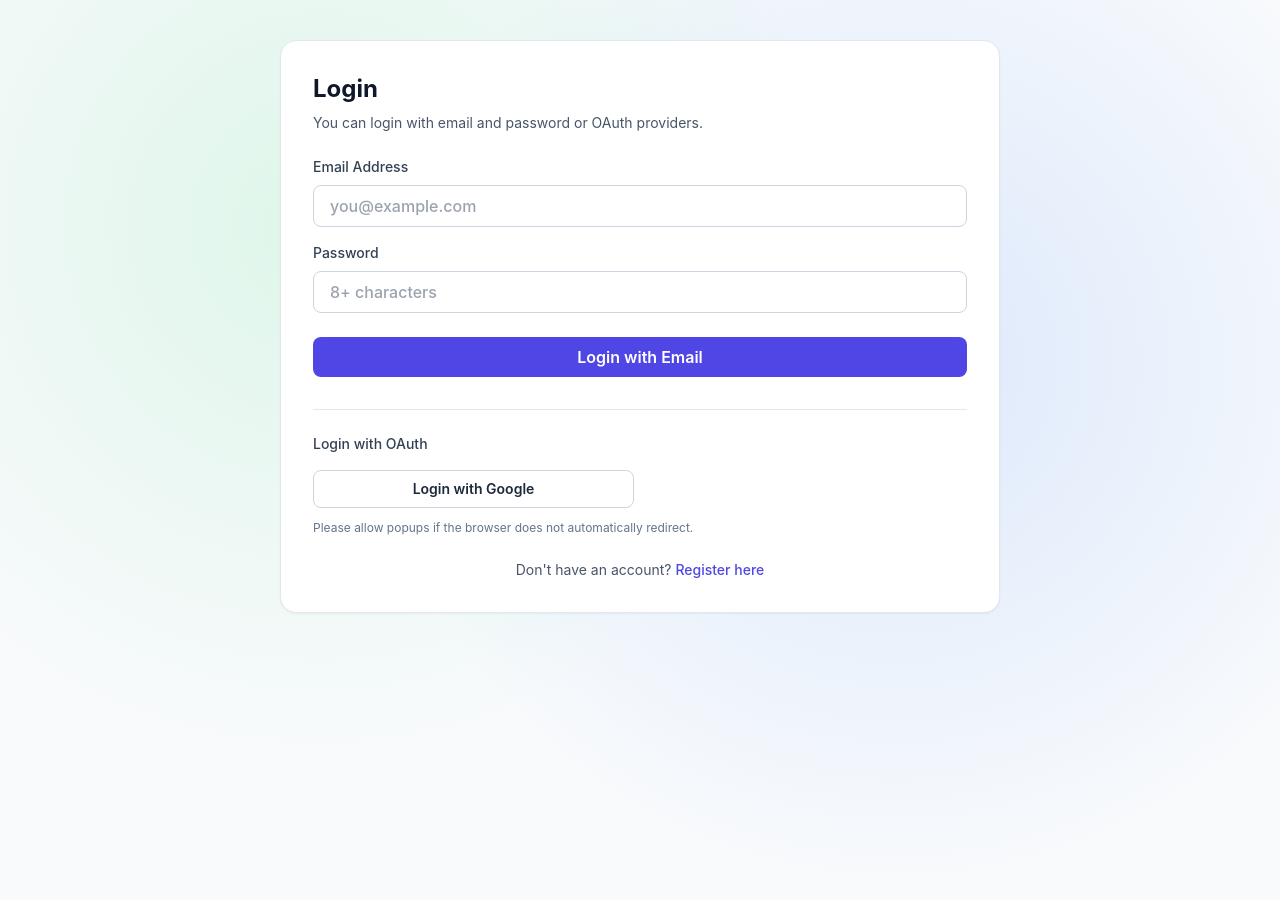
Test: LoginPage › surfaces MFA required message when API returns 423
This screenshot has width=1280, height=900.
Type "user@example.com" into the field labelled "Email Address".
click(640, 206); type("user@example.com")  # box [313, 185, 967, 227]
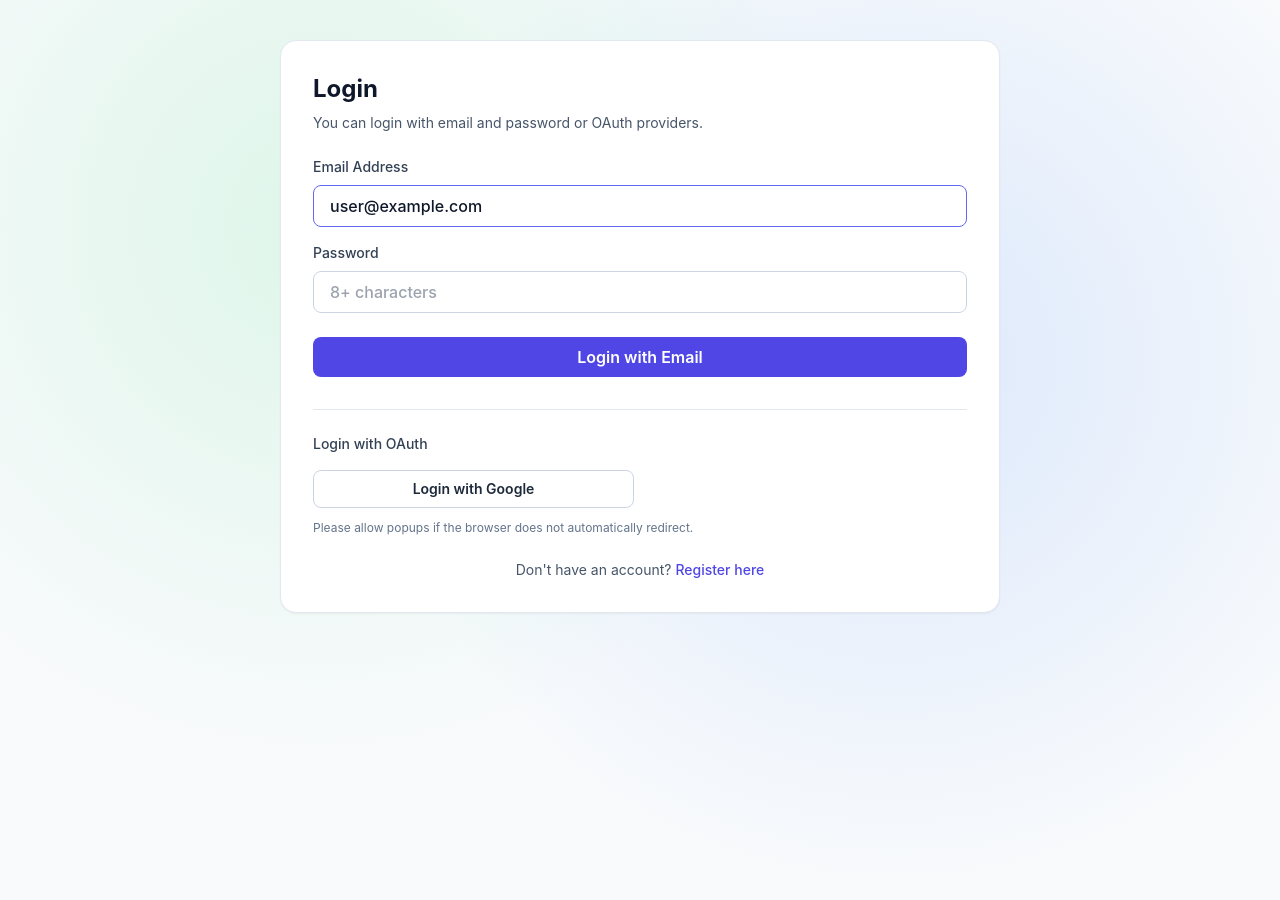
Type "password123" into the password field labelled "Password".
click(640, 292); type("password123")  # box [313, 271, 967, 313]
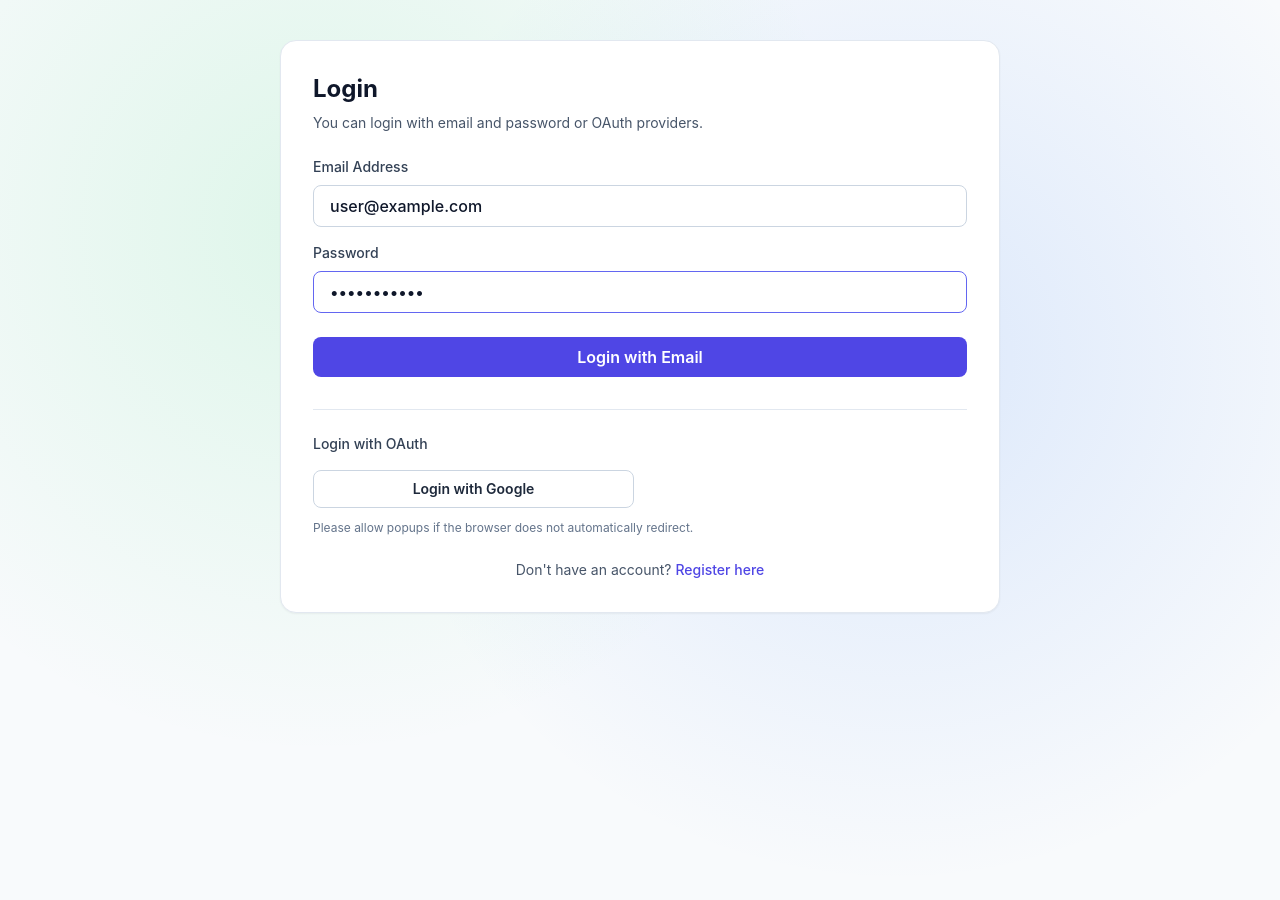
Click the button "Login with Email".
click(640, 357)  # box [313, 337, 967, 377]
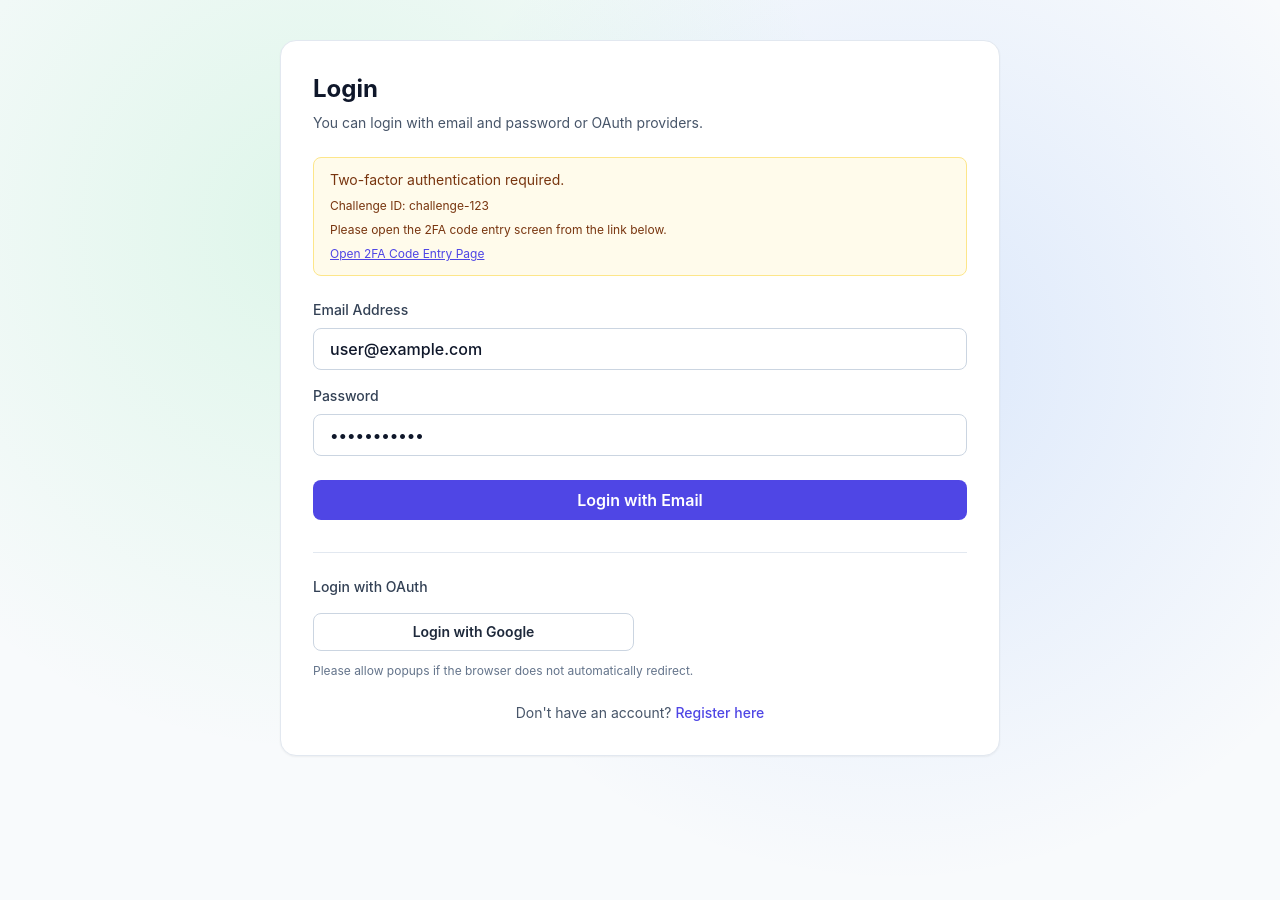
Now the text "Two-factor authentication required." is shown, box [330, 171, 564, 188]
